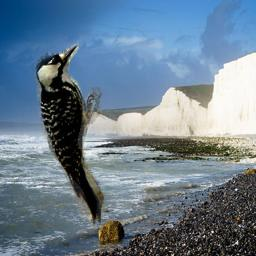Woodpecker: (27, 39, 119, 240)
